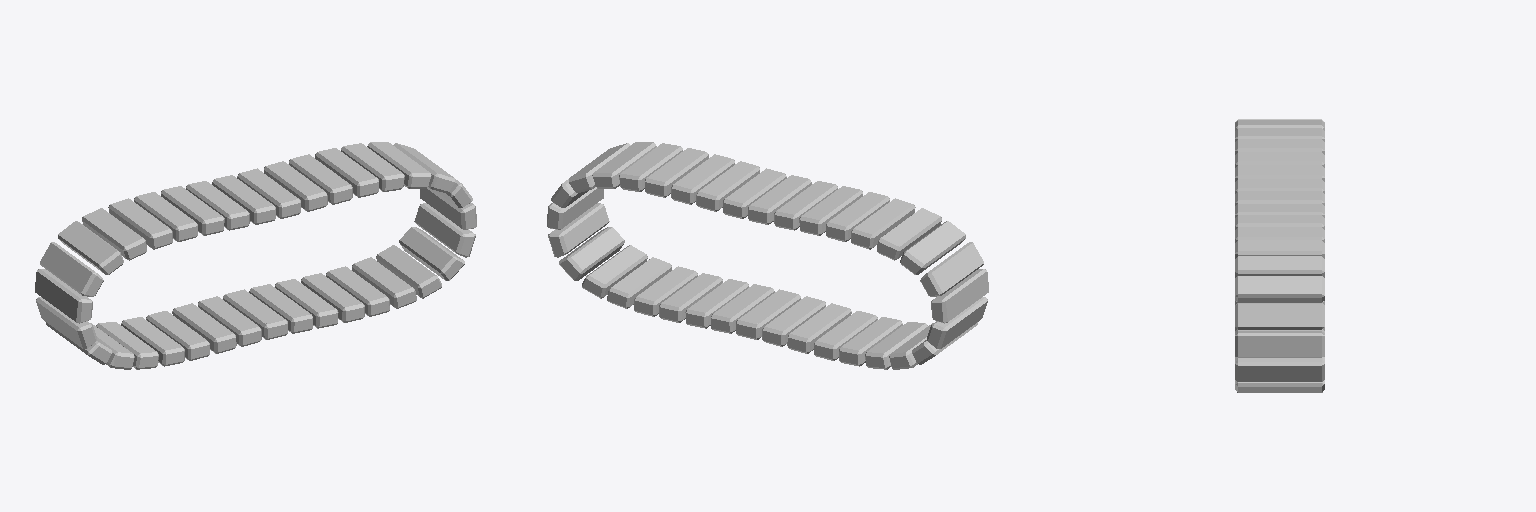
Rendered from TrackL.obj.
3 views of the same model, side by side, from view 1: azimuth 30°, elevation 25°; view 2: azimuth 150°, elevation 25°; view 3: azimuth 270°, elevation 25° (orthographic).
Visible parts, largest first — view 1: Cube.001; view 2: Cube.001; view 3: Cube.001.
Boxes of the visible parts, x1=… form: Cube.001: x1=35, y1=142, x2=476, y2=369; Cube.001: x1=547, y1=142, x2=988, y2=369; Cube.001: x1=1235, y1=119, x2=1324, y2=392.
Size of the model in its own units: 16.09 by 5.27 by 3.1.